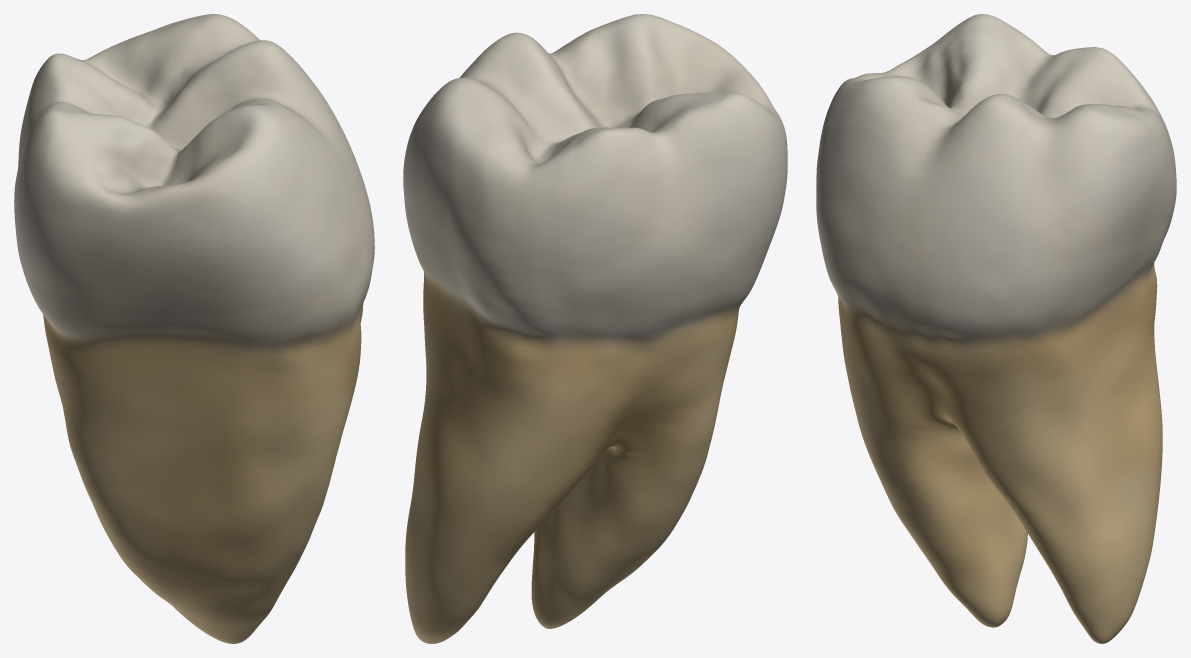
File: muela.glb
3 views of the same model, side by side, from view 1: azimuth 30°, elevation 25°; view 2: azimuth 150°, elevation 25°; view 3: azimuth 270°, elevation 25° (orthographic). The views are drawn at different scales.
Parts seen in each view (by area): view 1: Object_2; view 2: Object_2; view 3: Object_2.
Part boxes in pixels (box(x1,y1,x2,y2)): Object_2: box(14, 14, 374, 643); Object_2: box(403, 14, 787, 643); Object_2: box(816, 14, 1176, 643).
Bounding box in the file's own units: 1.1 × 1.83 × 1.11.
1 material, 1 textured.
